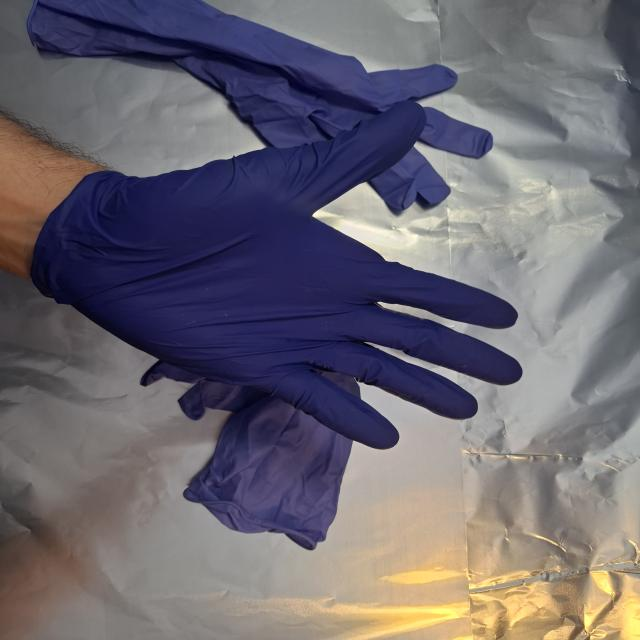glove_on: (32, 99, 528, 452)
